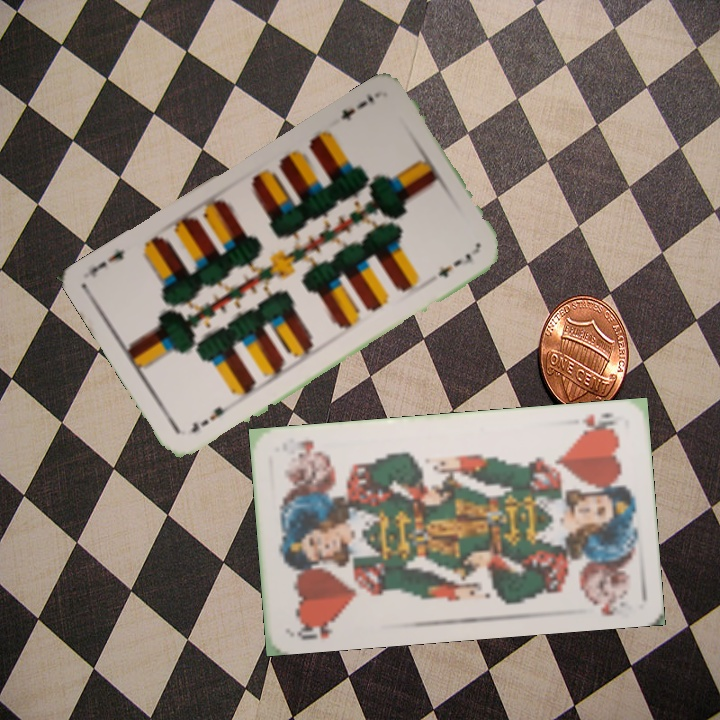E7: (186, 399, 236, 436), (337, 90, 377, 124)
HO: (574, 408, 623, 437), (293, 615, 338, 643)
